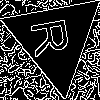R: (30, 14, 79, 58)
